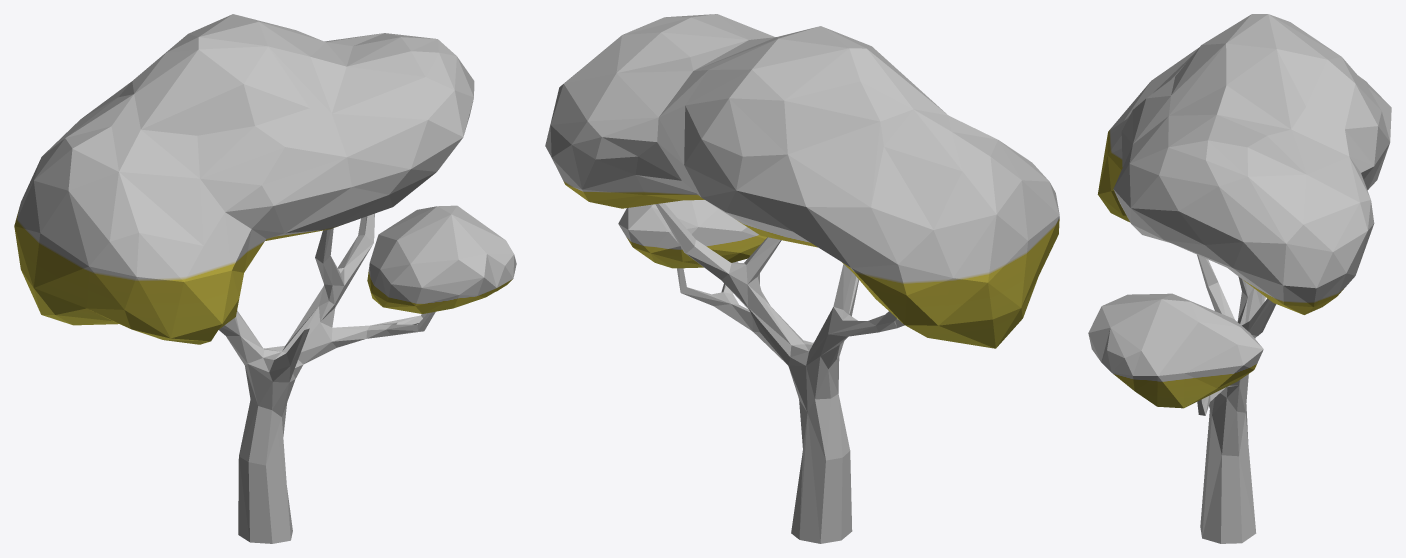
The model's file is Tree_03.fbx.
3 renders of one model, left to right at view 1: azimuth 30°, elevation 25°; view 2: azimuth 150°, elevation 25°; view 3: azimuth 270°, elevation 25°, orthographic. The views are drawn at different scales.
Visible parts, largest first — view 1: Tree_03; view 2: Tree_03; view 3: Tree_03.
Boxes of the visible parts, x1=… form: Tree_03: x1=14, y1=14, x2=516, y2=543; Tree_03: x1=545, y1=14, x2=1059, y2=543; Tree_03: x1=1088, y1=14, x2=1391, y2=543.
Size of the model in its own units: 5.42 by 5.78 by 3.21.
